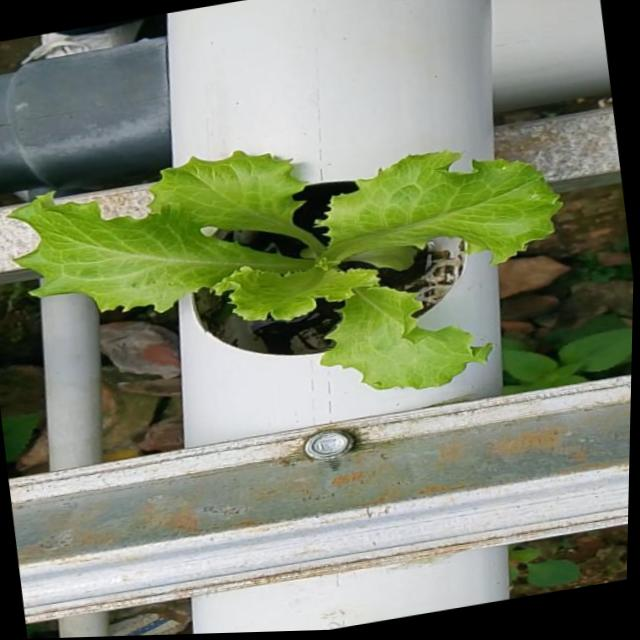Baby: (11, 153, 563, 390)
